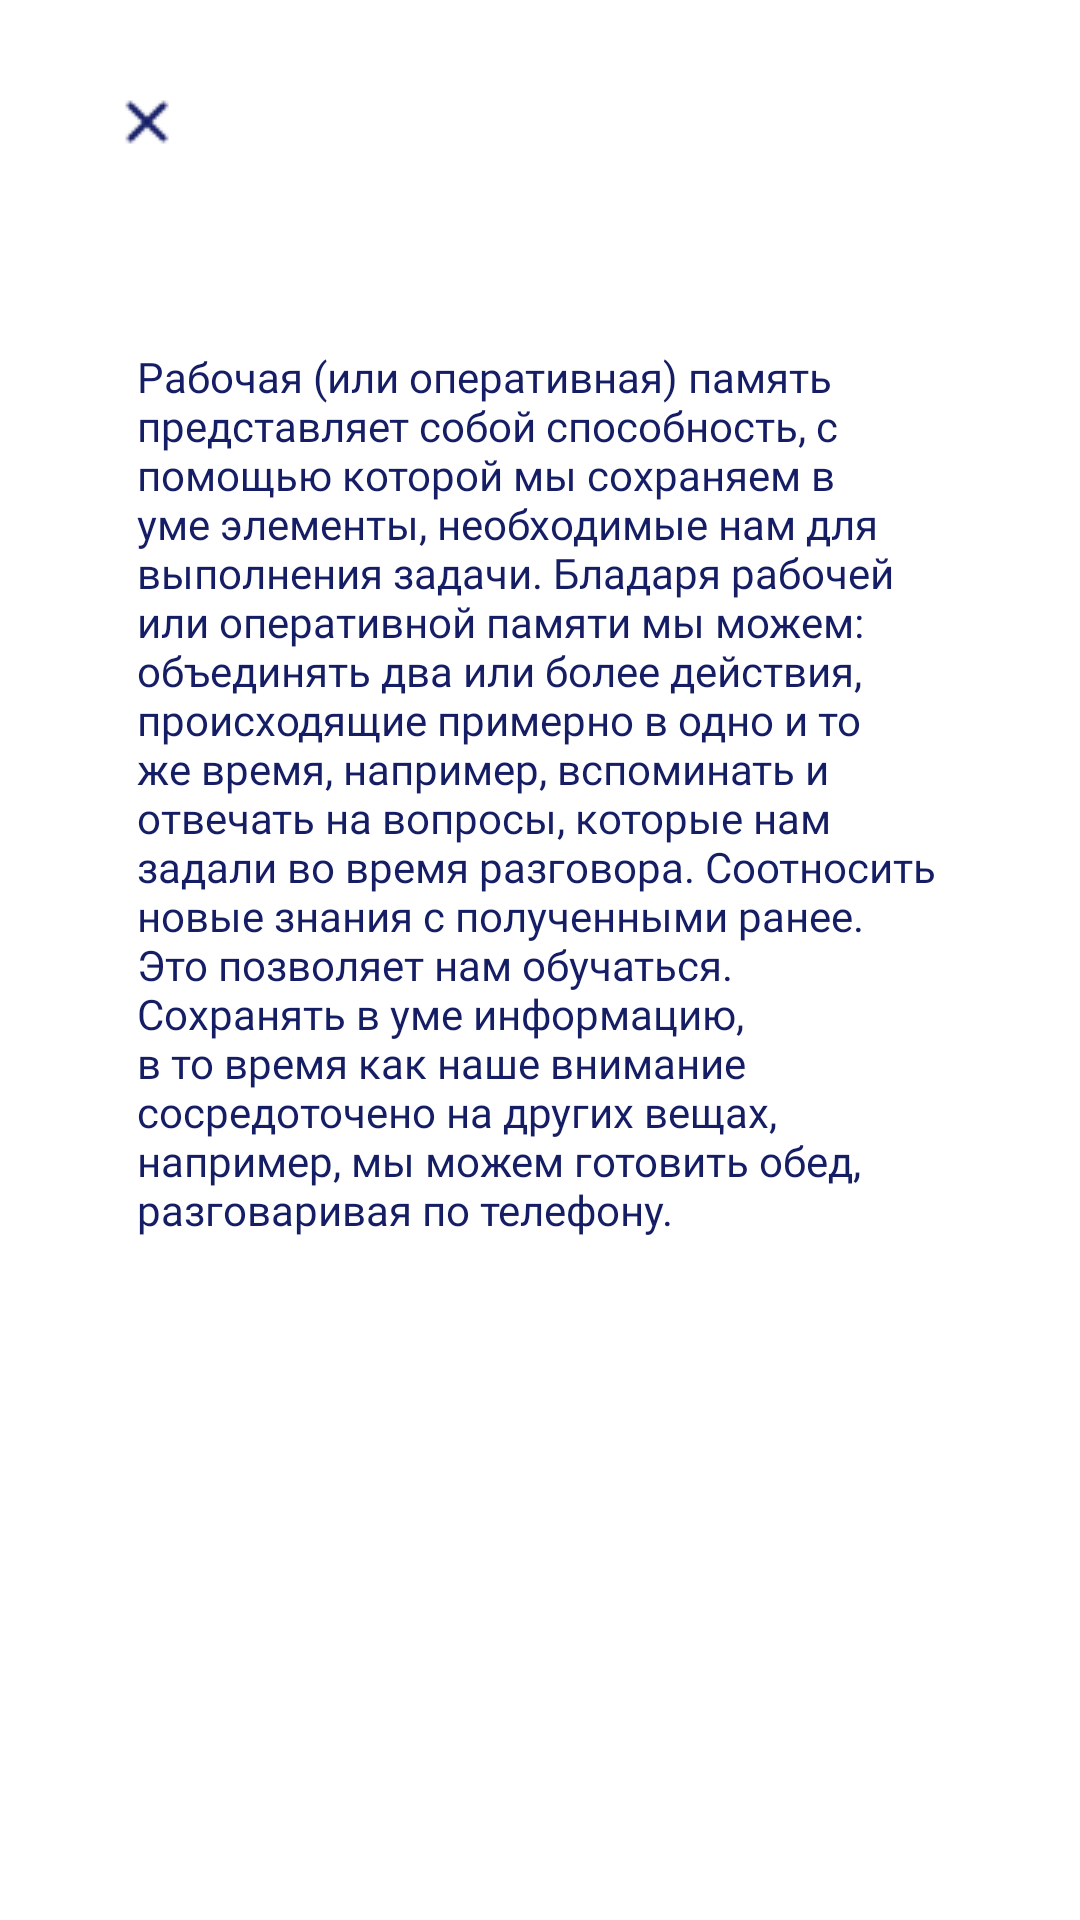

Icon click points for this 1080 x 1920 phone screenshot, format point (x, y):
back: point (147, 122)
